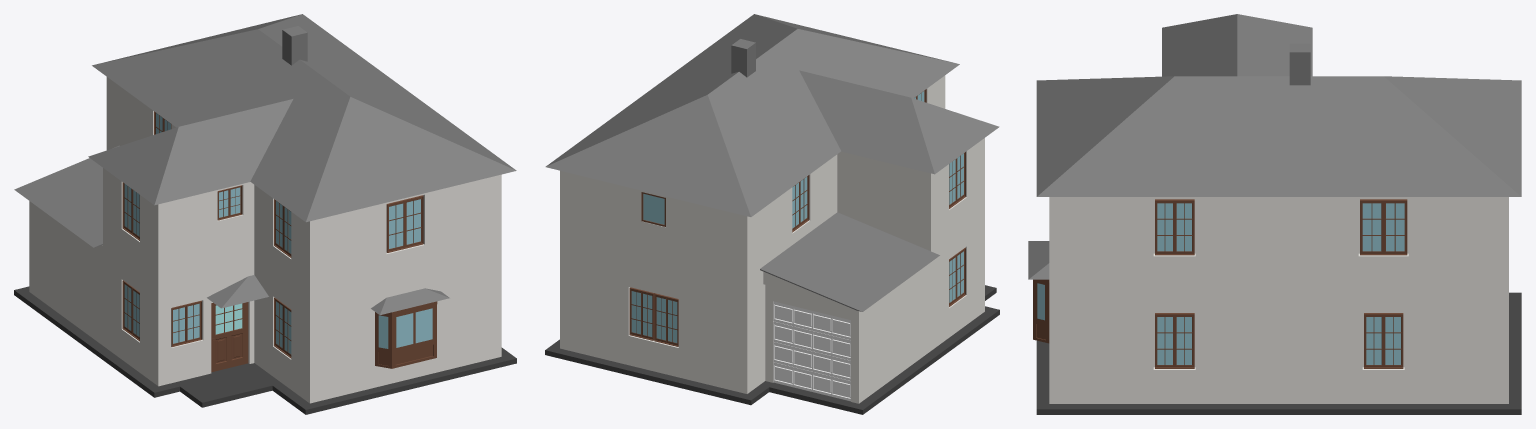
Rendered from task-15-x.obj.
The picture shows the model from 3 angles, left to right: view 1: azimuth 30°, elevation 25°; view 2: azimuth 150°, elevation 25°; view 3: azimuth 270°, elevation 25°; orthographic projection. The views are drawn at different scales.
Parts seen in each view (by area): view 1: wall, roof_1, roof_2, ground_base, roof_0, window_frame_0, door_frame_0, window_glass_0, window_glass_1, roof_3, roof_4, window_frame_1 (+13 smaller); view 2: wall, roof_1, roof_2, roof_0, garage_door_frame_0, ground_base, chimney_0, window_glass_12, window_glass_15, window_frame_12, window_glass_9, window_frame_15 (+6 smaller); view 3: wall, roof_1, roof_2, ground_base, window_glass_5, window_glass_4, window_glass_6, window_glass_7, window_frame_5, window_frame_4, window_frame_7, window_frame_6 (+3 smaller).
Boxes of the visible parts, left/top/right/bottom form: wall: left=29, top=77, right=501, bottom=403; roof_1: left=92, top=14, right=516, bottom=222; roof_2: left=88, top=99, right=293, bottom=205; ground_base: left=14, top=286, right=516, bottom=414; roof_0: left=14, top=145, right=119, bottom=247; window_frame_0: left=375, top=301, right=437, bottom=368; door_frame_0: left=211, top=302, right=248, bottom=372; window_glass_0: left=378, top=308, right=432, bottom=348; window_glass_1: left=389, top=199, right=420, bottom=248; roof_3: left=207, top=275, right=268, bottom=308; roof_4: left=371, top=288, right=449, bottom=315; window_frame_1: left=386, top=195, right=423, bottom=252; wall: left=560, top=75, right=984, bottom=403; roof_1: left=545, top=14, right=959, bottom=216; roof_2: left=799, top=70, right=999, bottom=174; roof_0: left=760, top=212, right=939, bottom=311; garage_door_frame_0: left=773, top=301, right=850, bottom=401; ground_base: left=545, top=285, right=999, bottom=414; chimney_0: left=731, top=39, right=755, bottom=77; window_glass_12: left=631, top=291, right=652, bottom=336; window_glass_15: left=656, top=297, right=677, bottom=342; window_frame_12: left=629, top=287, right=654, bottom=340; window_glass_9: left=792, top=177, right=807, bottom=228; window_frame_15: left=654, top=293, right=678, bottom=346; wall: left=1049, top=197, right=1508, bottom=403; roof_1: left=1036, top=76, right=1521, bottom=196; roof_2: left=1162, top=14, right=1312, bottom=76; ground_base: left=1036, top=292, right=1521, bottom=414; window_glass_5: left=1362, top=203, right=1404, bottom=251; window_glass_4: left=1366, top=317, right=1400, bottom=364; window_glass_6: left=1157, top=317, right=1191, bottom=364; window_glass_7: left=1157, top=203, right=1191, bottom=251; window_frame_5: left=1360, top=199, right=1407, bottom=255; window_frame_4: left=1364, top=313, right=1403, bottom=368; window_frame_7: left=1155, top=199, right=1194, bottom=255; window_frame_6: left=1155, top=313, right=1194, bottom=368.
Size of the model in its own units: 9.6 by 8.15 by 11.8.
